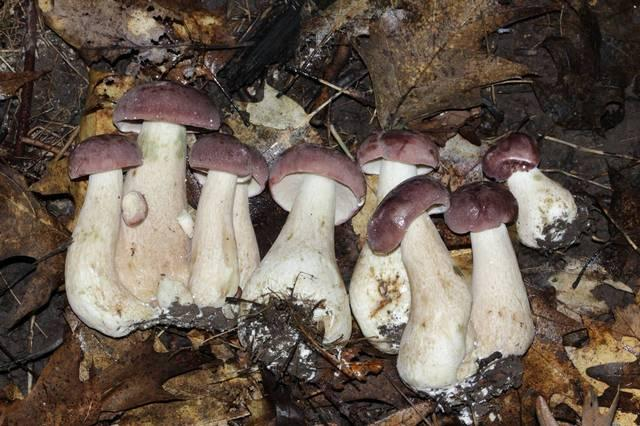Non-edible Mushroom: (238, 142, 367, 349), (109, 79, 221, 312), (365, 174, 472, 395), (443, 179, 536, 381), (63, 132, 152, 337), (481, 131, 579, 252)
